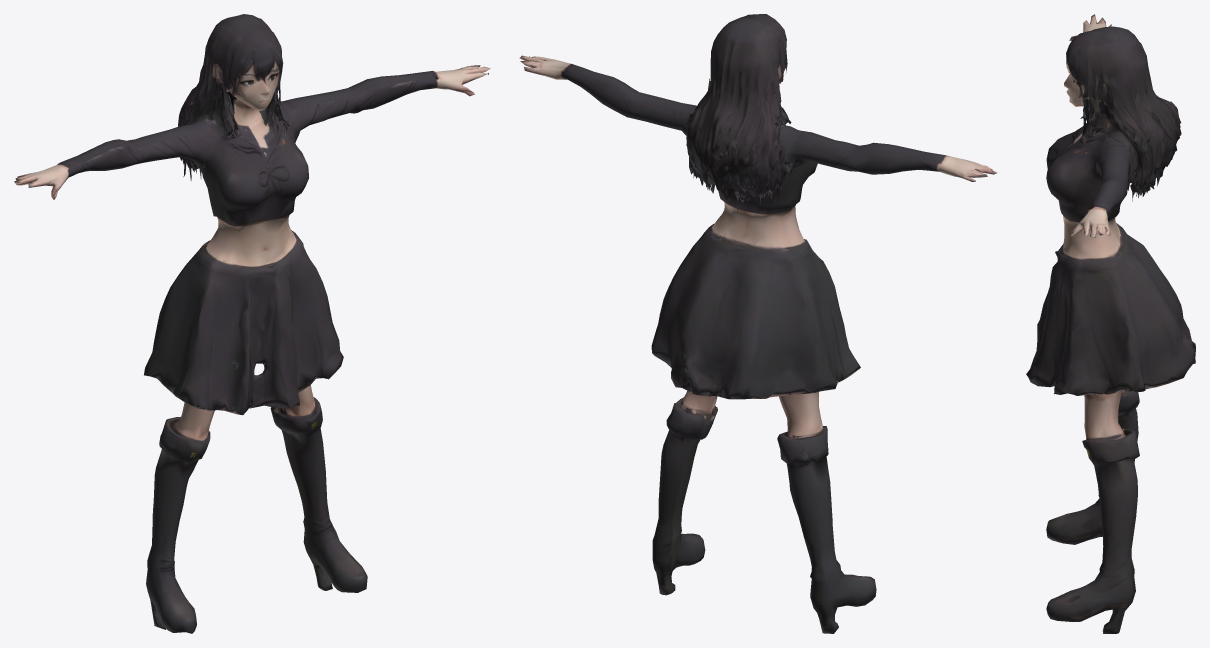
Rendered from Meshy_AI_chill_anime_girl_cur_0424233138_texture.glb.
3 views of the same model, side by side, from view 1: azimuth 30°, elevation 25°; view 2: azimuth 150°, elevation 25°; view 3: azimuth 270°, elevation 25° (orthographic). The views are drawn at different scales.
Bounding box in the file's own units: 1.68 × 1.99 × 0.5441.
1 material, 1 textured.
